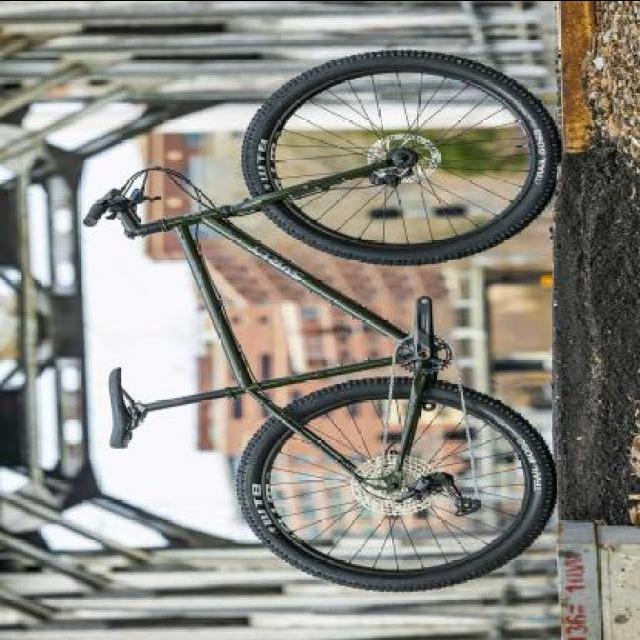bicycle: (81, 46, 563, 592)
